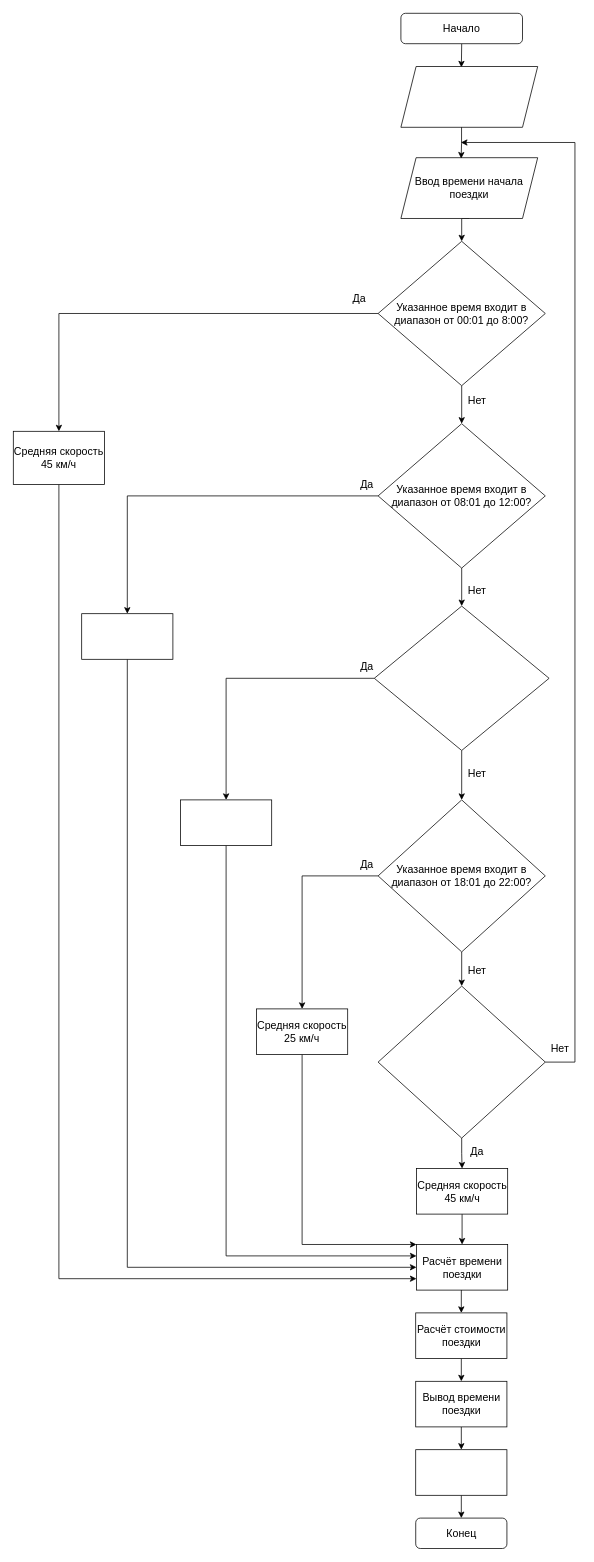
Image size: 594x1562. Some labels were removed from this diagram. Here are the shapes that lost their labels. From the top down, the centre of each, then its label:
point (469, 96): Выбор транспортного средства: Собственный автомобиль
point (127, 636): Средняя скорость 30 км/ч
point (461, 677): Указанное время входит в диапазон от 12:01 до 18:00?
point (226, 822): Средняя скорость 40 км/ч
point (461, 1061): Указанное время входит в диапазон от 22:01 до 00:00?
point (461, 1472): Вывод стоимости поездки
